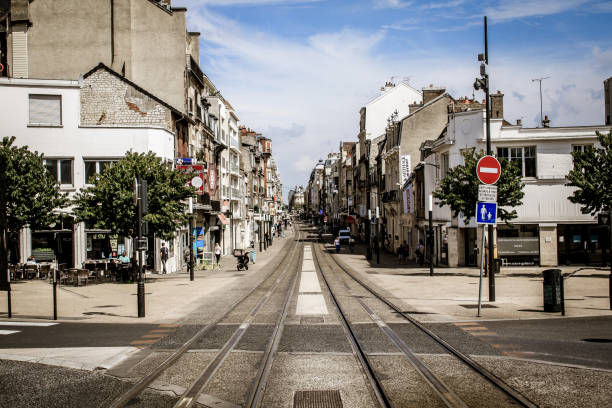Girilmez: (478, 155, 503, 182)
